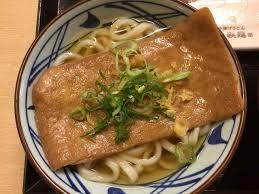kitune: (27, 3, 232, 191)
